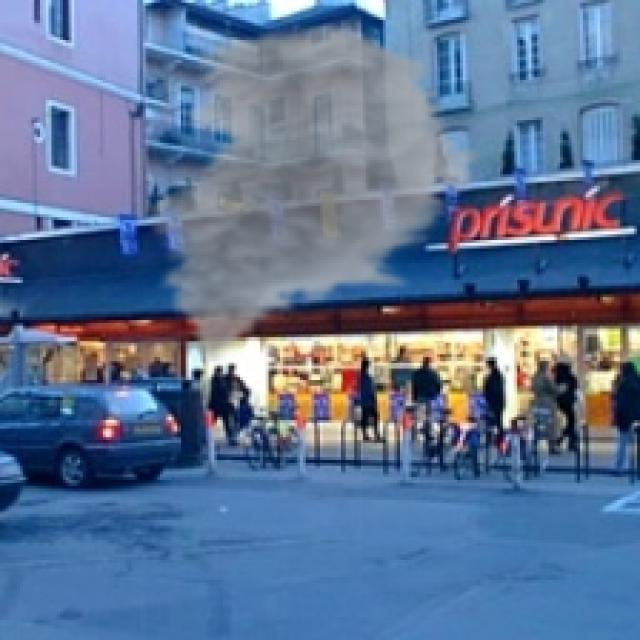Smoke: (137, 20, 489, 366)
